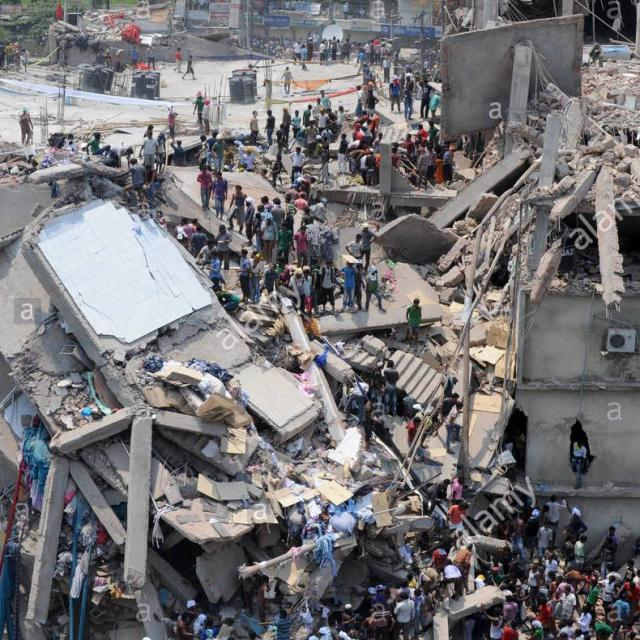collapsed_building: (348, 38, 638, 531), (19, 180, 281, 584)
